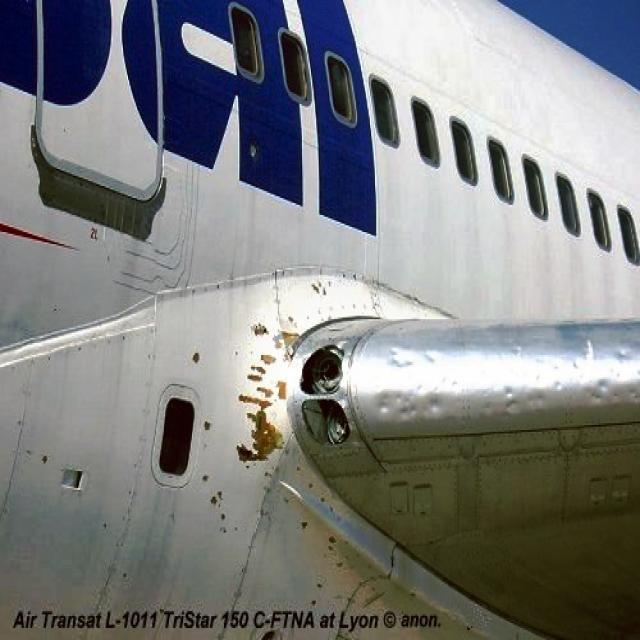dent: (376, 341, 640, 429)
